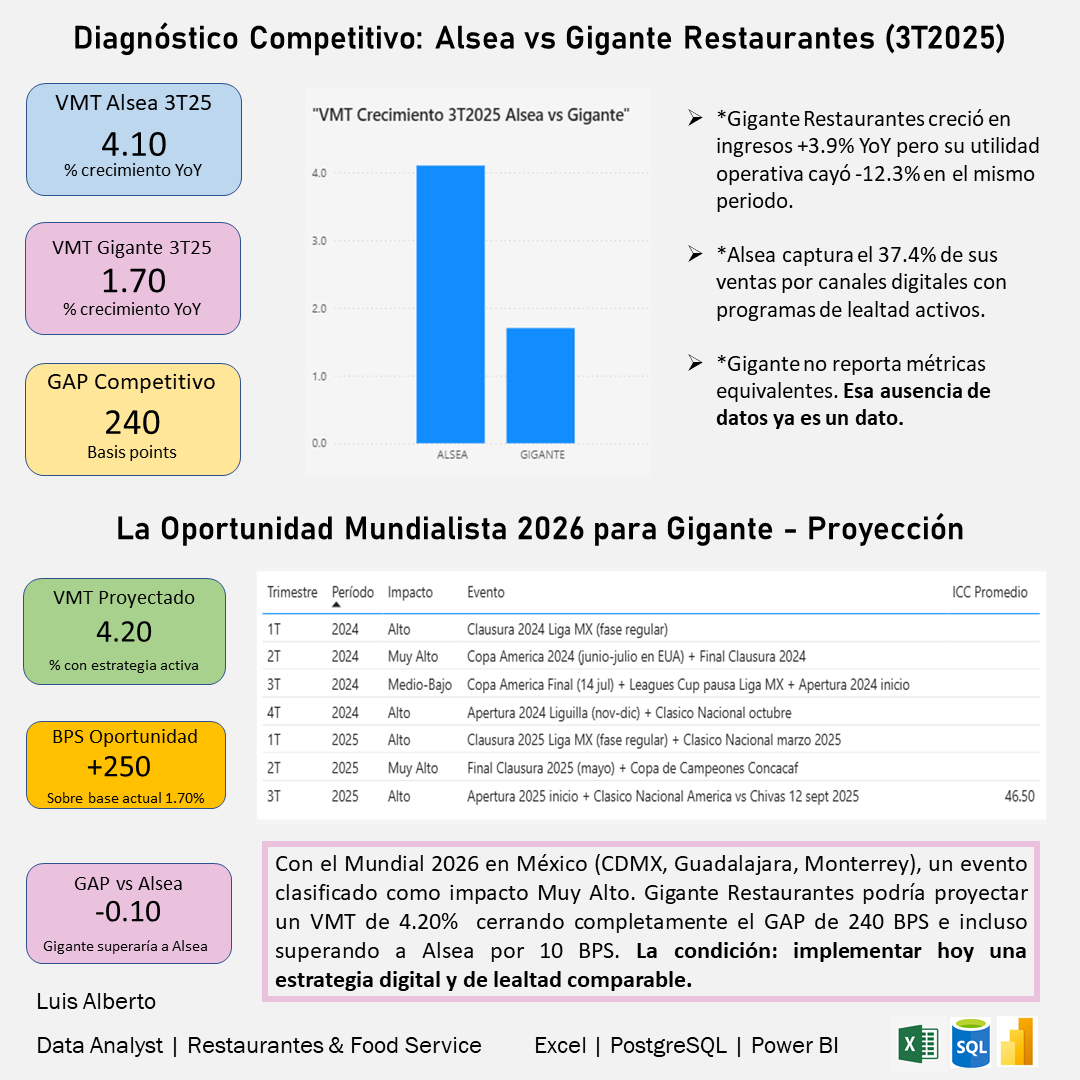

The dashboard page shown, as its layout file describes it:
{"tool":"powerbi","page":{"name":"Página 1","canvas":[1280,720],"ordinal":0},"visuals":[{"type":"card","title":"\"VMT Alsea 3T25\"","fields":{"Values":["Sum(public fact_financiera.vmt_crecimiento_pct)"]},"box":[15.6,57.4,212,89.5],"z":0},{"type":"card","title":"\"VMT Gigante 3T25\"","fields":{"Values":["Sum(public fact_financiera.vmt_crecimiento_pct)"]},"box":[698.2,209.1,186.4,72.7],"z":1000},{"type":"card","title":"\"GAP en BPS\"","fields":{"Values":["public dim_empresa.GAP_VMT_BPS"]},"box":[698.2,73.6,186.4,72.7],"z":2000},{"type":"clusteredColumnChart","title":"\"VMT Crecimiento 3T2025  Alsea vs Gigante\"","fields":{"Y":["Avg(public fact_financiera.vmt_crecimiento_pct)"],"Category":["public dim_empresa.empresa_id"]},"box":[250.9,73.6,389.1,377.3],"z":3000},{"type":"tableEx","fields":{"Values":["Contexto_Limpio.trimestre","Contexto_Limpio.periodo","Contexto_Limpio.impacto","Contexto_Limpio.evento","Avg(Contexto_Limpio.icc)"]},"box":[15.6,478.5,844.3,214],"z":4000},{"type":"clusteredColumnChart","title":"\"Ingreso por Unidad (MDP)  Alsea vs Gigante\"","fields":{"Category":["public dim_empresa.empresa_id"],"Y":["Contexto_Limpio.Ingreso_Por_Unidad"]},"box":[917.3,73.6,342.7,377.3],"z":5000},{"type":"card","title":"\"VMT Proyectado\"","fields":{"Values":["Contexto_Limpio.VMT_Proyectado_Mundial"]},"box":[15.6,159.5,212,72],"z":6000},{"type":"card","title":" \"BPS Oportunidad\"","fields":{"Values":["Contexto_Limpio.BPS_Oportunidad_Mundial"]},"box":[15.6,262.6,212,72.9],"z":7000},{"type":"card","title":"\"GAP Residual vs Alsea\"","fields":{"Values":["Contexto_Limpio.GAP_Residual_Mundial"]},"box":[15.5,360,218.2,72.7],"z":8000},{"type":"textbox","box":[175.5,7.3,984.5,50],"z":9000}]}

Visuals, with their boxes on the page's 1280x720 design canvas (x1, y1, x2, y2). These are canvas units, not pixel positions in the 1080x1080 screenshot, which may show the page scaled, cropped or inside an application window:
""VMT Alsea 3T25"" card: <region>16, 57, 228, 147</region>
""VMT Gigante 3T25"" card: <region>698, 209, 885, 282</region>
""GAP en BPS"" card: <region>698, 74, 885, 146</region>
""VMT Crecimiento 3T2025  Alsea vs Gigante"" clusteredColumnChart: <region>251, 74, 640, 451</region>
tableEx - Contexto_Limpio.trimestre x Contexto_Limpio.periodo: <region>16, 478, 860, 692</region>
""Ingreso por Unidad (MDP)  Alsea vs Gigante"" clusteredColumnChart: <region>917, 74, 1260, 451</region>
""VMT Proyectado"" card: <region>16, 160, 228, 232</region>
" "BPS Oportunidad"" card: <region>16, 263, 228, 336</region>
""GAP Residual vs Alsea"" card: <region>16, 360, 234, 433</region>
textbox: <region>176, 7, 1160, 57</region>
